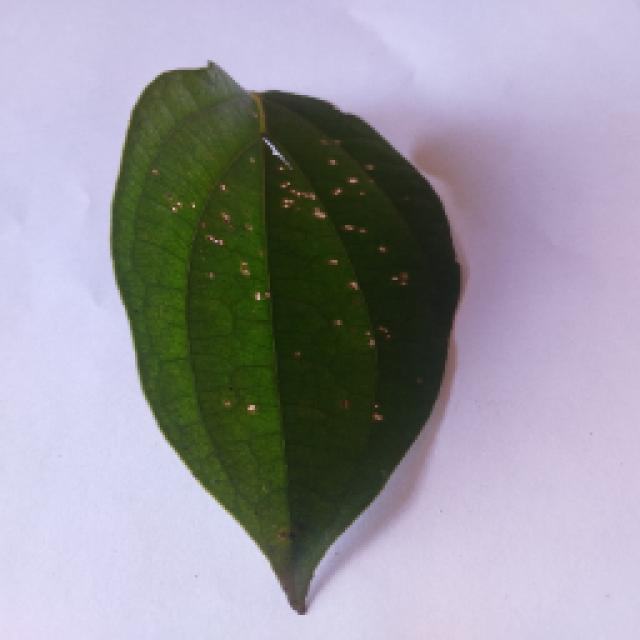pollu-disease: (87, 65, 485, 610)
